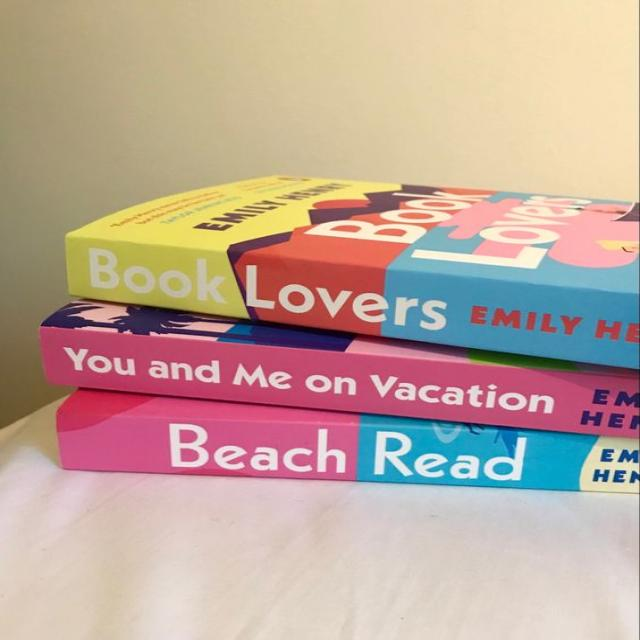book: (67, 238, 637, 370), (42, 325, 636, 434), (59, 410, 640, 486)
